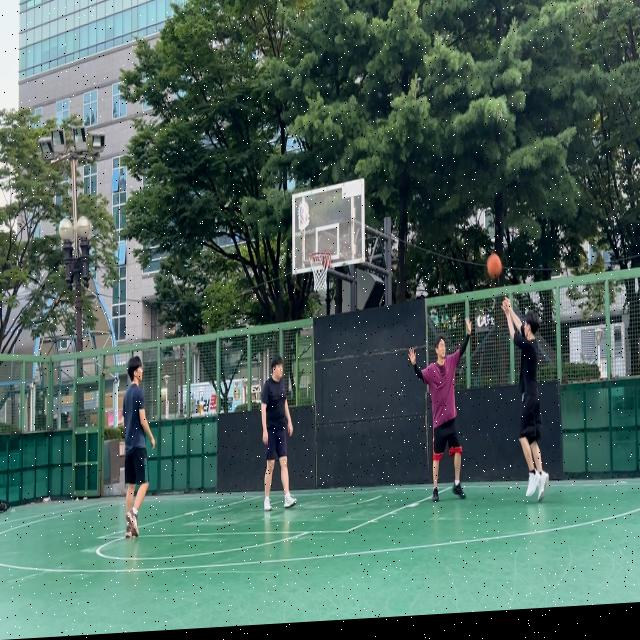basketball: (486, 252, 503, 279)
hoop: (308, 250, 330, 293)
